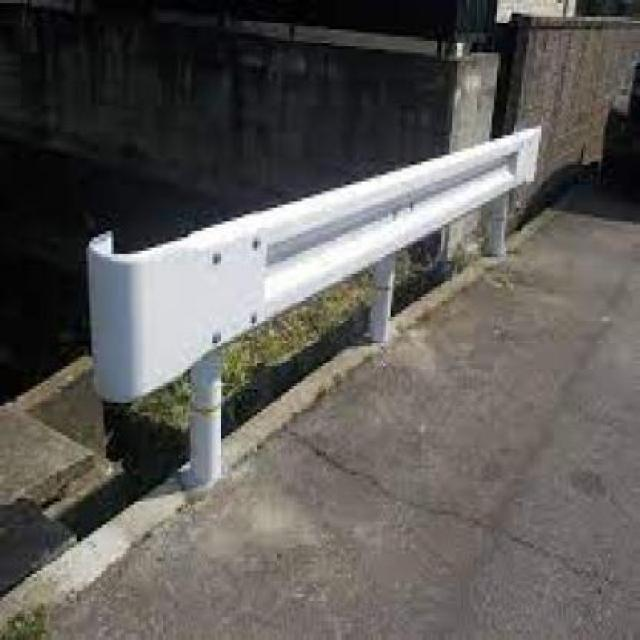Guard rail: (86, 115, 545, 493)
